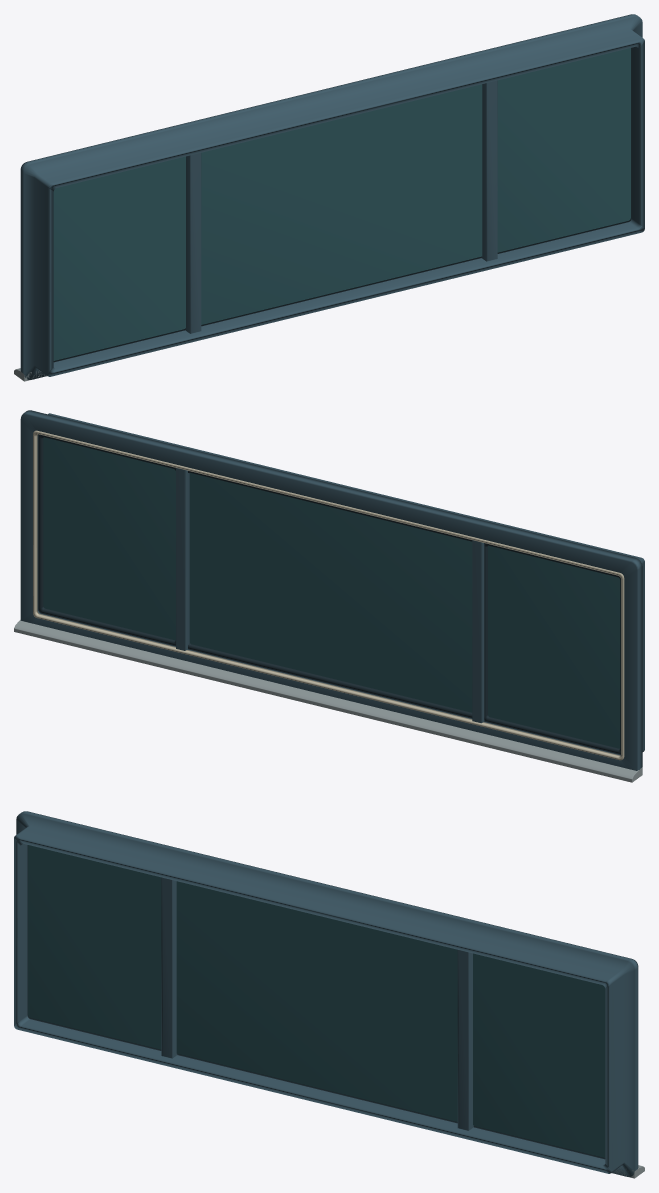
The model's file is reexport_city_shop_fittings_07.glb.
3 views of the same model, one above another, from view 1: azimuth 30°, elevation 25°; view 2: azimuth 150°, elevation 25°; view 3: azimuth 330°, elevation 25° (orthographic).
Visible parts, largest first — view 1: centre_opaque_pane, continuous_window_frame, right_opaque_pane, left_opaque_pane, left_meeting_stile, right_meeting_stile, centre_glazing_seal; view 2: centre_opaque_pane, continuous_window_frame, left_opaque_pane, right_opaque_pane, folded_drip_shoe, inner_ivory_bead, centre_glazing_seal, right_meeting_stile, left_meeting_stile, right_glazing_seal, left_glazing_seal; view 3: centre_opaque_pane, continuous_window_frame, left_opaque_pane, right_opaque_pane, right_meeting_stile, left_meeting_stile, centre_glazing_seal.
Boxes of the visible parts, box(x1,y1,x2,y2) form: centre_opaque_pane: box(201, 84, 482, 324); continuous_window_frame: box(20, 14, 644, 379); right_opaque_pane: box(497, 48, 630, 252); left_opaque_pane: box(53, 156, 185, 360); left_meeting_stile: box(185, 153, 201, 333); right_meeting_stile: box(481, 80, 497, 261); centre_glazing_seal: box(201, 256, 481, 326); centre_opaque_pane: box(189, 473, 472, 712); continuous_window_frame: box(20, 410, 644, 770); left_opaque_pane: box(488, 545, 620, 748); right_opaque_pane: box(43, 437, 175, 640); folded_drip_shoe: box(14, 620, 642, 782); inner_ivory_bead: box(33, 430, 624, 760); centre_glazing_seal: box(188, 471, 472, 718); right_meeting_stile: box(176, 468, 189, 650); left_meeting_stile: box(472, 540, 484, 723); right_glazing_seal: box(38, 434, 175, 646); left_glazing_seal: box(484, 543, 620, 754); centre_opaque_pane: box(176, 881, 457, 1121); continuous_window_frame: box(14, 811, 638, 1176); left_opaque_pane: box(28, 845, 161, 1049); right_opaque_pane: box(473, 953, 605, 1157); right_meeting_stile: box(457, 950, 473, 1130); left_meeting_stile: box(161, 877, 177, 1058); centre_glazing_seal: box(177, 1053, 457, 1123).
Size of the model in its own units: 4.8 by 1.6 by 0.31.
